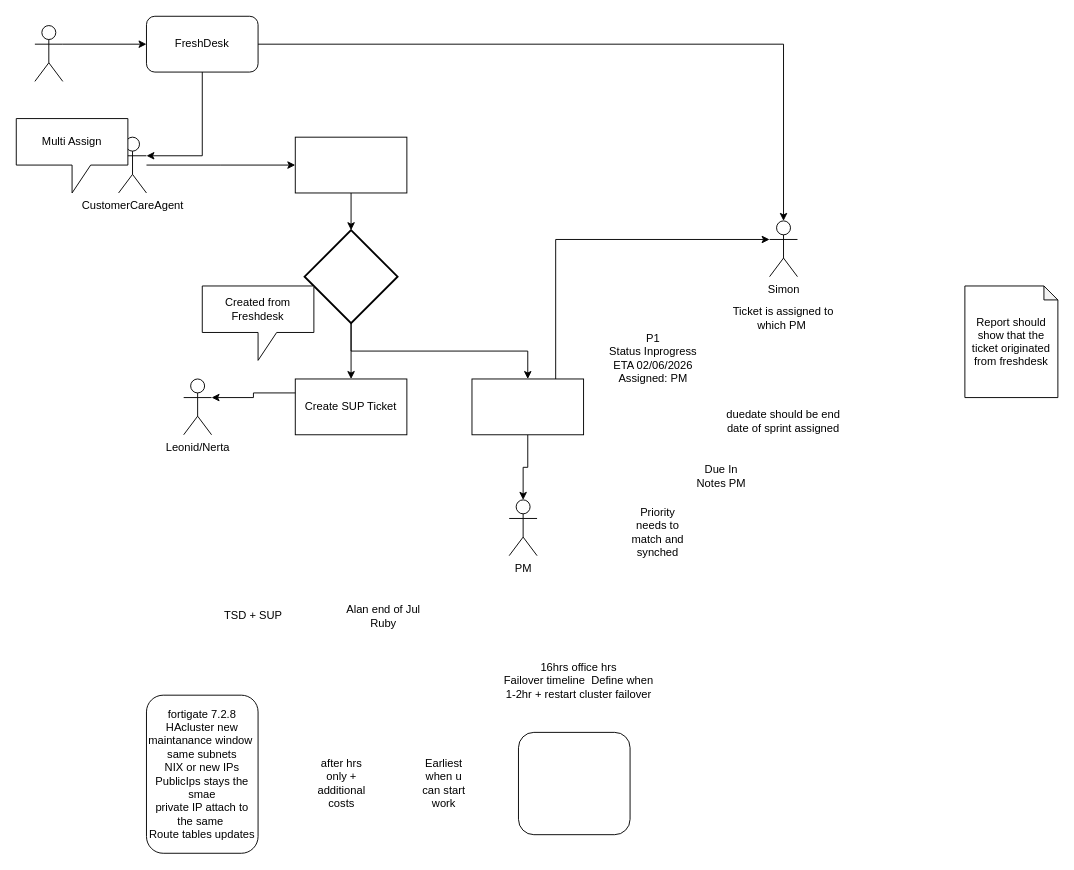
Image size: 1074x870. Some labels were removed from this diagram. The shapes that lost their labels are listed below. From the top down, each one's centre as x and y in pixels, then its label:
At point (48, 53): "User".
At point (350, 164): "Assigned to Nerta or Leonid".
At point (350, 276): "Internal handling?".
At point (527, 406): "Create PM Ticket".
At point (574, 783): "decide if configs need to be replaced Plan + timeline + additional costs".
